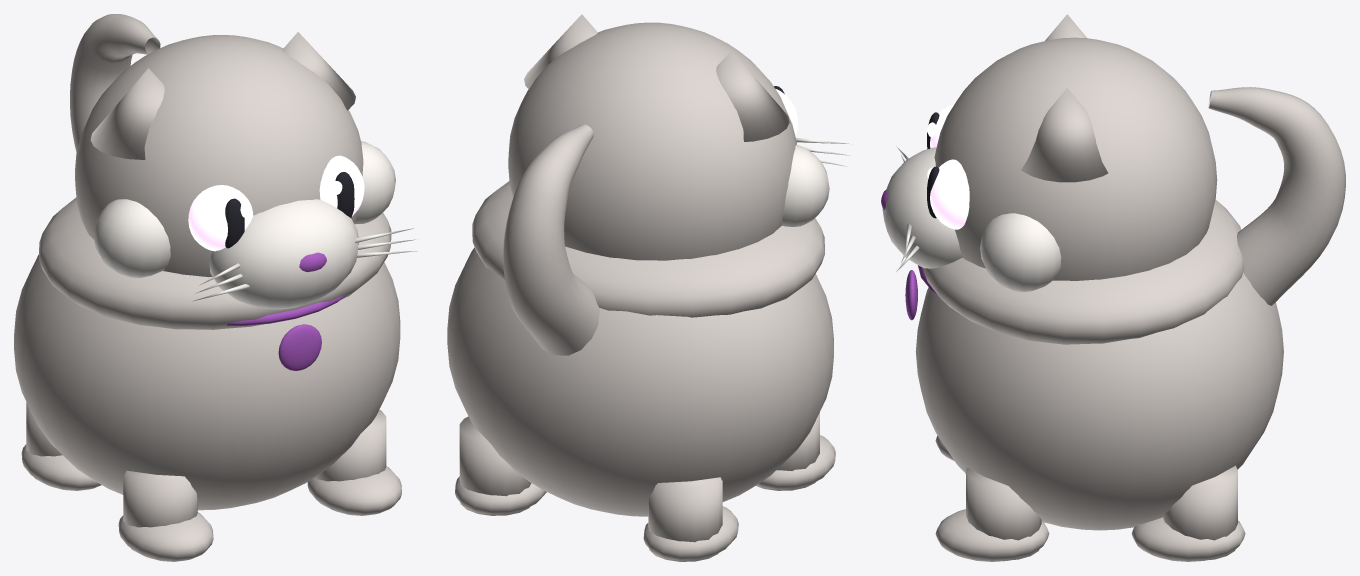
File: persian_snob.glb
3 views of the same model, side by side, from view 1: azimuth 30°, elevation 25°; view 2: azimuth 150°, elevation 25°; view 3: azimuth 270°, elevation 25° (orthographic).
Parts seen in each view (by area): view 1: persian_snob; view 2: persian_snob; view 3: persian_snob.
Part boxes in pixels (<box>): persian_snob: <box>14,14,417,561</box>; persian_snob: <box>447,14,849,561</box>; persian_snob: <box>881,14,1345,561</box>.
Bounding box in the file's own units: 1.33 × 1.68 × 1.54.
